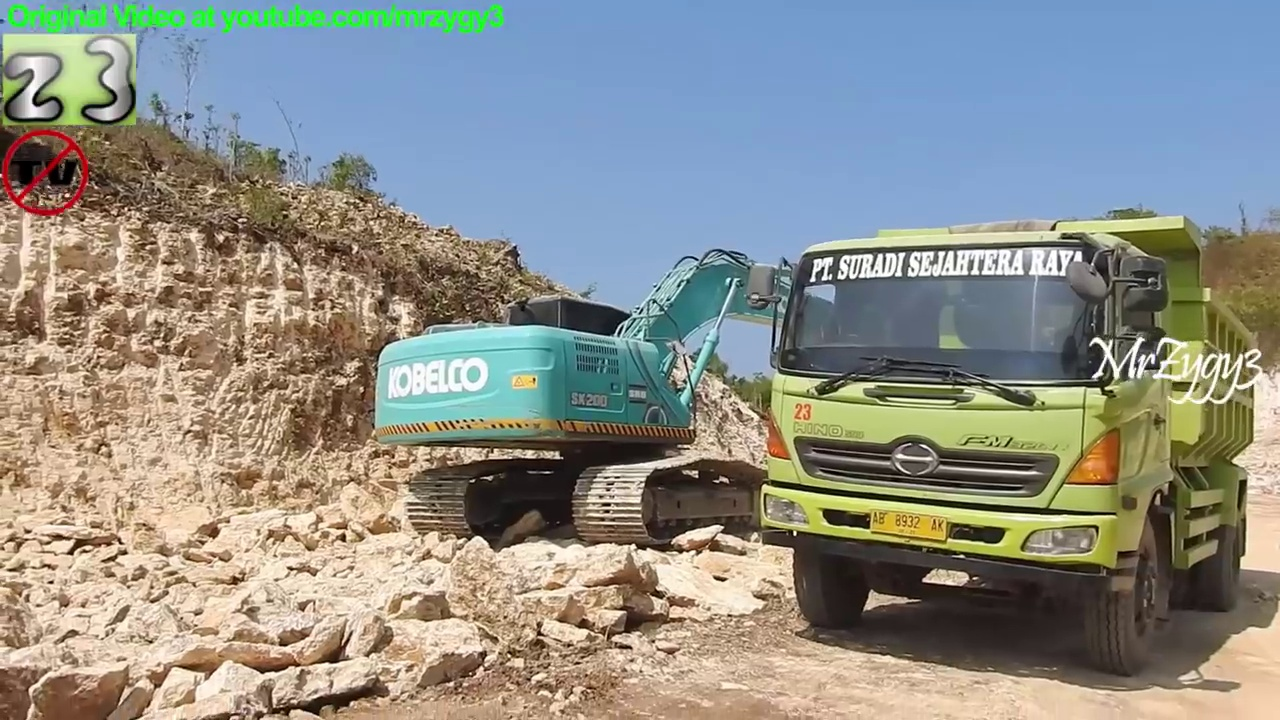excavator: (367, 243, 1065, 558)
truck: (743, 212, 1269, 679)
